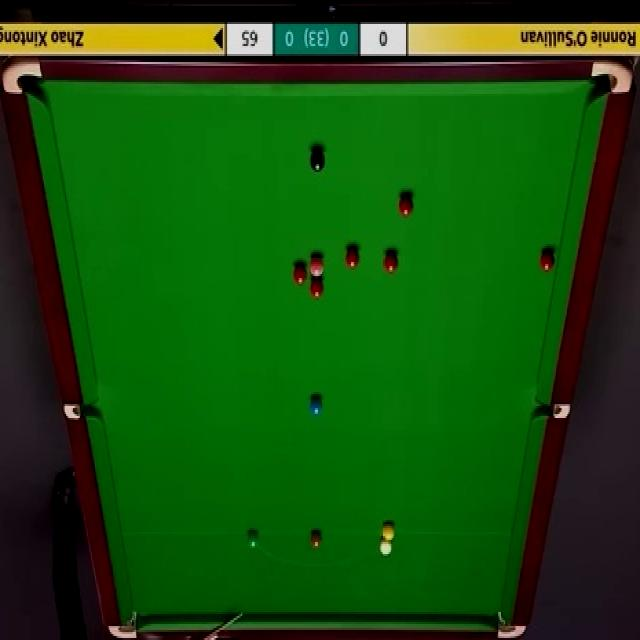black-ball: (309, 148, 325, 174)
blue-ball: (309, 395, 324, 418)
brown-ball: (310, 530, 323, 549)
green-ball: (247, 528, 259, 550)
pink-ball: (309, 255, 323, 278)
red-ball: (290, 260, 308, 286), (382, 248, 398, 276), (397, 194, 415, 218), (344, 243, 360, 270), (540, 248, 555, 274), (310, 276, 324, 301)
white-ball: (378, 535, 392, 558)
yellow-ball: (384, 520, 396, 540)
